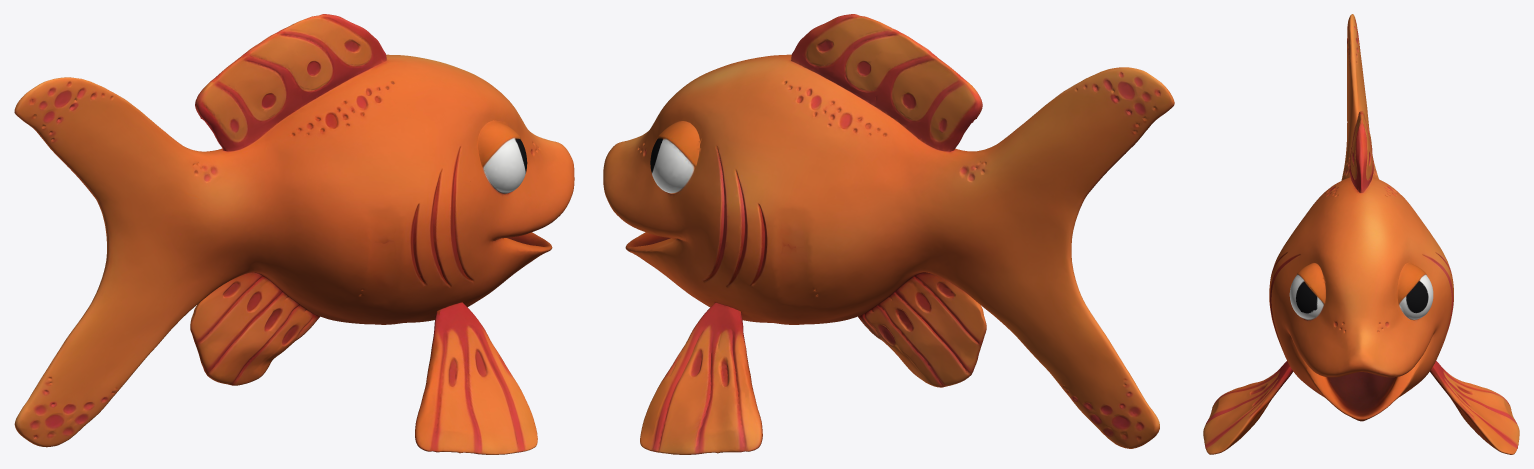
The model's file is mascote-laranja-anim.glb.
The picture shows the model from 3 angles, left to right: view 1: azimuth 30°, elevation 25°; view 2: azimuth 150°, elevation 25°; view 3: azimuth 270°, elevation 25°; orthographic projection. The views are drawn at different scales.
Visible parts, largest first — view 1: tripo_node_32da7f80-0949-4659-9199-44dacbe516d6; view 2: tripo_node_32da7f80-0949-4659-9199-44dacbe516d6; view 3: tripo_node_32da7f80-0949-4659-9199-44dacbe516d6.
Part boxes in pixels (bbox=[...]): tripo_node_32da7f80-0949-4659-9199-44dacbe516d6: bbox=[14, 14, 574, 454]; tripo_node_32da7f80-0949-4659-9199-44dacbe516d6: bbox=[603, 14, 1174, 454]; tripo_node_32da7f80-0949-4659-9199-44dacbe516d6: bbox=[1203, 14, 1519, 454].
Size of the model in its own units: 1 by 0.673 by 0.6526.
1 material, 1 textured.
